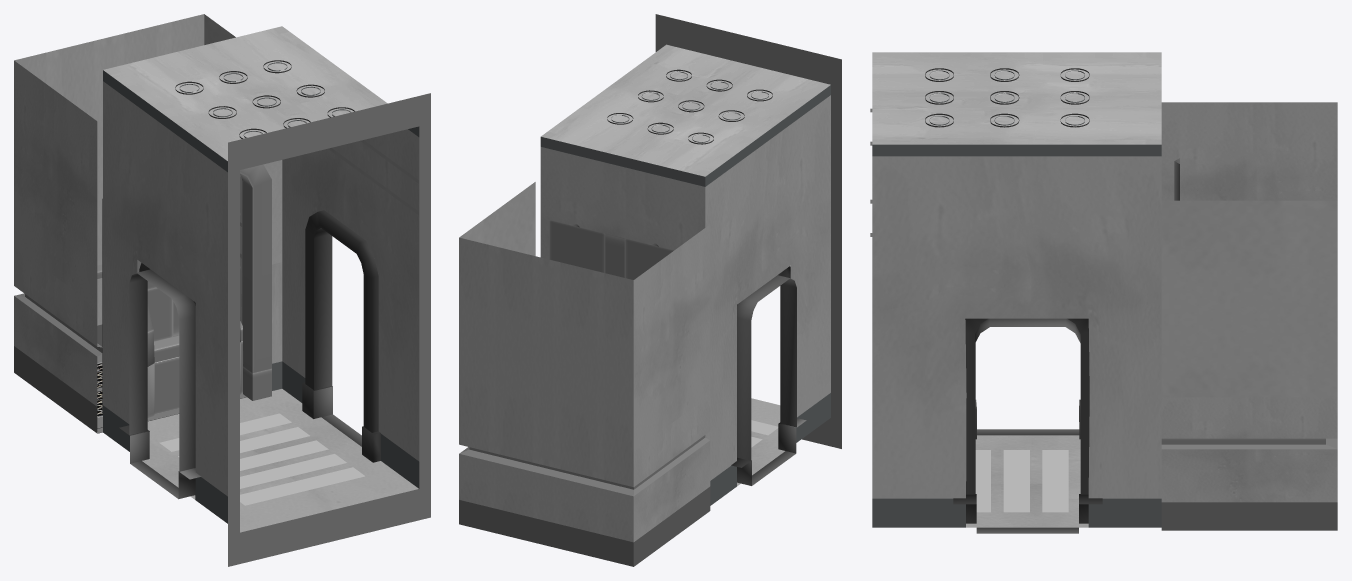
File: MSH_QuestElevator_L2.fbx
3 renders of one model, left to right at view 1: azimuth 30°, elevation 25°; view 2: azimuth 150°, elevation 25°; view 3: azimuth 270°, elevation 25°, orthographic. The views are drawn at different scales.
Visible parts, largest first — view 1: MSH_QuestElevator_Wall_01, MSH_QuestElevator_Room_Back, MSH_QuestElevator_Doors_01, MSH_QuestElevator_Room_frame, MSH_QuestElevator_Ceiling_01, MSH_QuestElevator_Doors_02, MSH_QuestElevator_Decals_Ground_01, MSH_Elevator_DoorUp, MSH_Elevator_DoorDown, MSH_QuestElevator_Light_01, MSH_QuestElevator_Wall_02; view 2: MSH_QuestElevator_Room_Back, MSH_QuestElevator_Wall_01, MSH_QuestElevator_Ceiling_01, MSH_QuestElevator_Room_frame, MSH_QuestElevator_Doors_02, MSH_Elevator_DoorUp, MSH_QuestElevator_Doors_01, MSH_QuestElevator_Light_01; view 3: MSH_QuestElevator_Wall_01, MSH_QuestElevator_Room_Back, MSH_QuestElevator_Ceiling_01, MSH_QuestElevator_Doors_01, MSH_QuestElevator_Decals_Ground_01, MSH_QuestElevator_Doors_02, MSH_QuestElevator_Light_01.
Part boxes in pixels (x1=…): MSH_QuestElevator_Wall_01: x1=103, y1=70, x2=419, y2=523; MSH_QuestElevator_Room_Back: x1=14, y1=14, x2=235, y2=433; MSH_QuestElevator_Doors_01: x1=97, y1=164, x2=418, y2=532; MSH_QuestElevator_Room_frame: x1=228, y1=93, x2=430, y2=566; MSH_QuestElevator_Ceiling_01: x1=103, y1=26, x2=387, y2=160; MSH_QuestElevator_Doors_02: x1=129, y1=228, x2=361, y2=499; MSH_QuestElevator_Decals_Ground_01: x1=159, y1=413, x2=364, y2=505; MSH_Elevator_DoorUp: x1=147, y1=176, x2=242, y2=366; MSH_Elevator_DoorDown: x1=147, y1=341, x2=242, y2=418; MSH_QuestElevator_Light_01: x1=175, y1=60, x2=354, y2=138; MSH_QuestElevator_Wall_02: x1=240, y1=140, x2=418, y2=258; MSH_QuestElevator_Room_Back: x1=459, y1=182, x2=710, y2=566; MSH_QuestElevator_Wall_01: x1=540, y1=85, x2=830, y2=505; MSH_QuestElevator_Ceiling_01: x1=541, y1=44, x2=830, y2=176; MSH_QuestElevator_Room_frame: x1=655, y1=14, x2=841, y2=448; MSH_QuestElevator_Doors_02: x1=737, y1=275, x2=796, y2=485; MSH_Elevator_DoorUp: x1=549, y1=220, x2=673, y2=279; MSH_QuestElevator_Doors_01: x1=731, y1=266, x2=806, y2=486; MSH_QuestElevator_Light_01: x1=607, y1=69, x2=772, y2=144; MSH_QuestElevator_Wall_01: x1=872, y1=144, x2=1161, y2=527; MSH_QuestElevator_Room_Back: x1=1161, y1=102, x2=1337, y2=530; MSH_QuestElevator_Ceiling_01: x1=872, y1=52, x2=1161, y2=144; MSH_QuestElevator_Doors_01: x1=953, y1=318, x2=1102, y2=527; MSH_QuestElevator_Decals_Ground_01: x1=975, y1=450, x2=1068, y2=512; MSH_QuestElevator_Doors_02: x1=975, y1=318, x2=1080, y2=533; MSH_QuestElevator_Light_01: x1=925, y1=68, x2=1089, y2=127.
Size of the model in its own units: 3.43 by 6.87 by 6.49.
